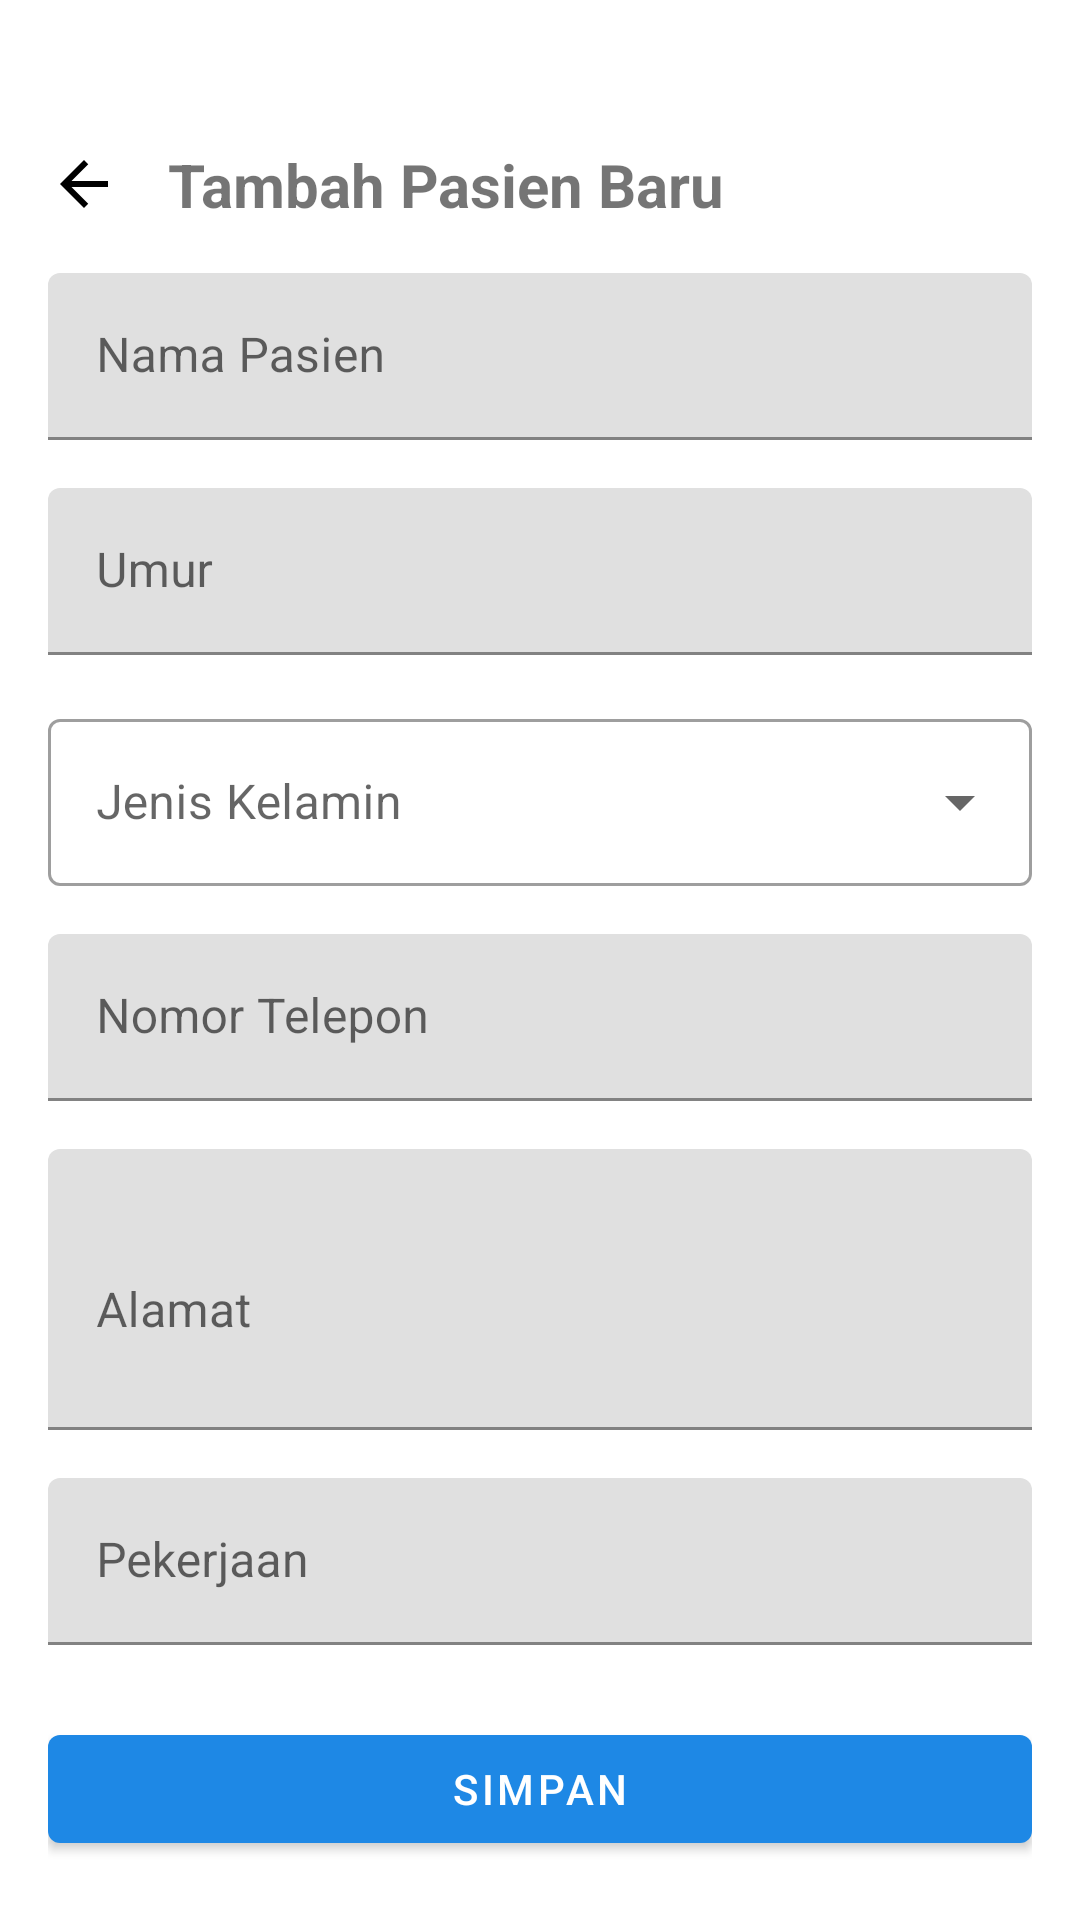

Locate icon controls on the screen. Image size 1080 × 1920, boxes as (x1, y1, x2, y2).
Back: (60, 160, 108, 208)
